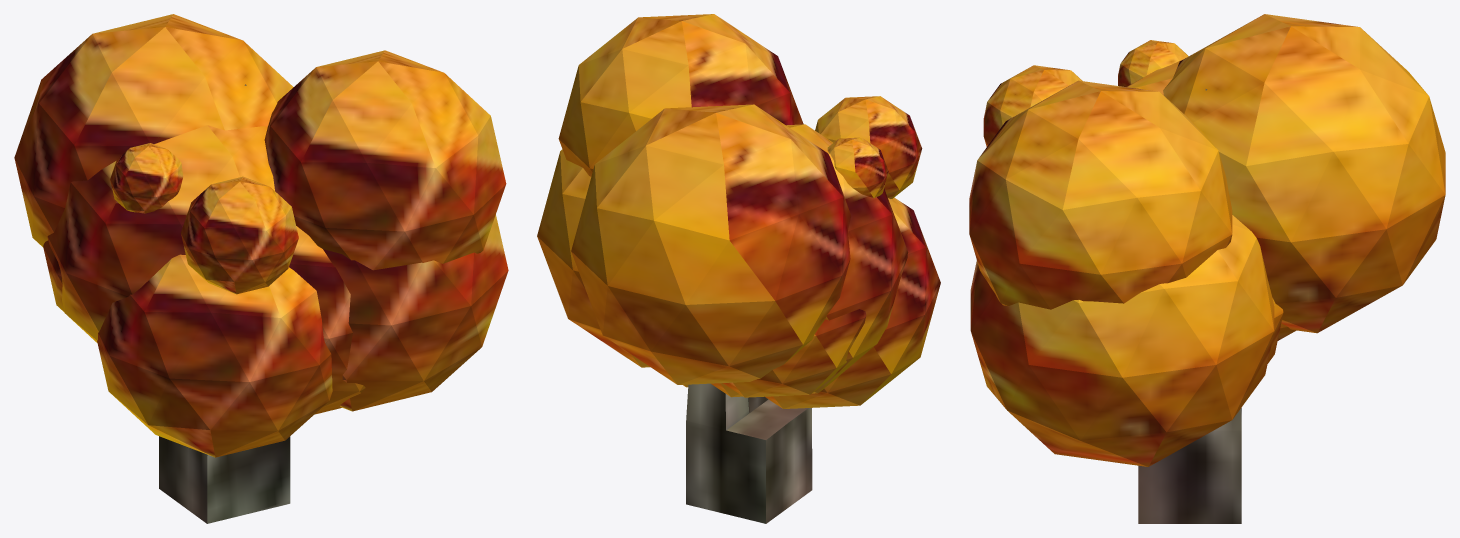
File: Tree5.fbx
3 views of the same model, side by side, from view 1: azimuth 30°, elevation 25°; view 2: azimuth 150°, elevation 25°; view 3: azimuth 270°, elevation 25° (orthographic). The views are drawn at different scales.
Parts seen in each view (by area): view 1: Tree 5; view 2: Tree 5; view 3: Tree 5.
Boxes of the visible parts, left/top/right/bottom form: Tree 5: left=14, top=14, right=508, bottom=523; Tree 5: left=537, top=14, right=940, bottom=523; Tree 5: left=969, top=14, right=1445, bottom=523.
Size of the model in its own units: 924 by 928 by 1005.
